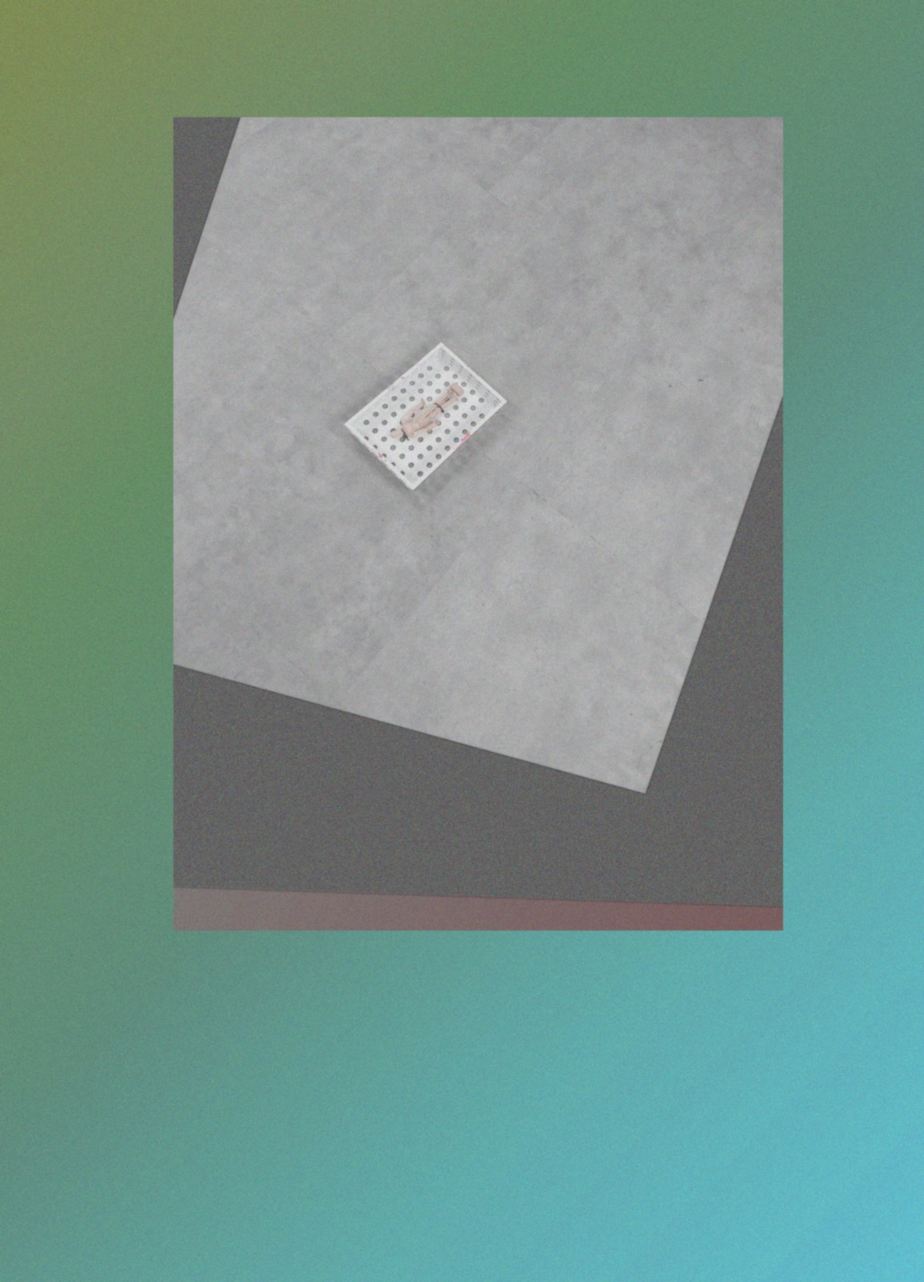basket: (338, 338, 512, 501)
mannequin: (388, 382, 467, 443)
